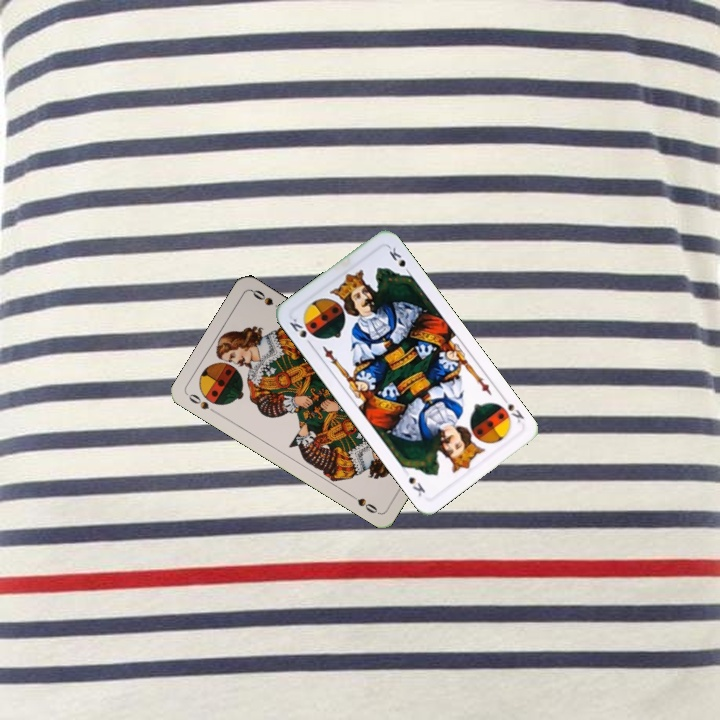SK: (285, 314, 315, 349), (497, 392, 527, 426)
SO: (184, 390, 220, 416)
